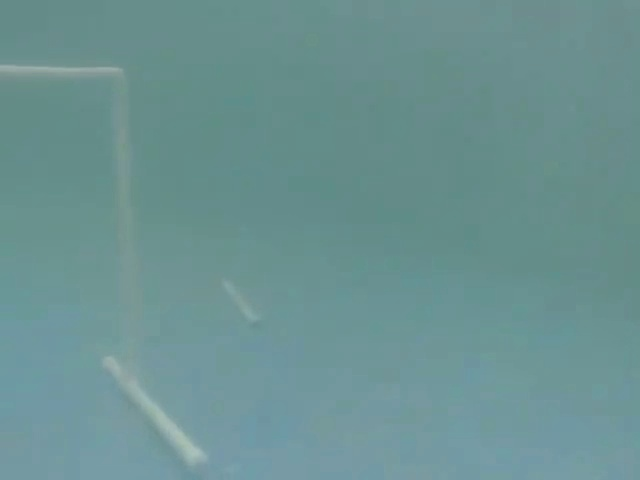gate: (0, 57, 217, 480)
